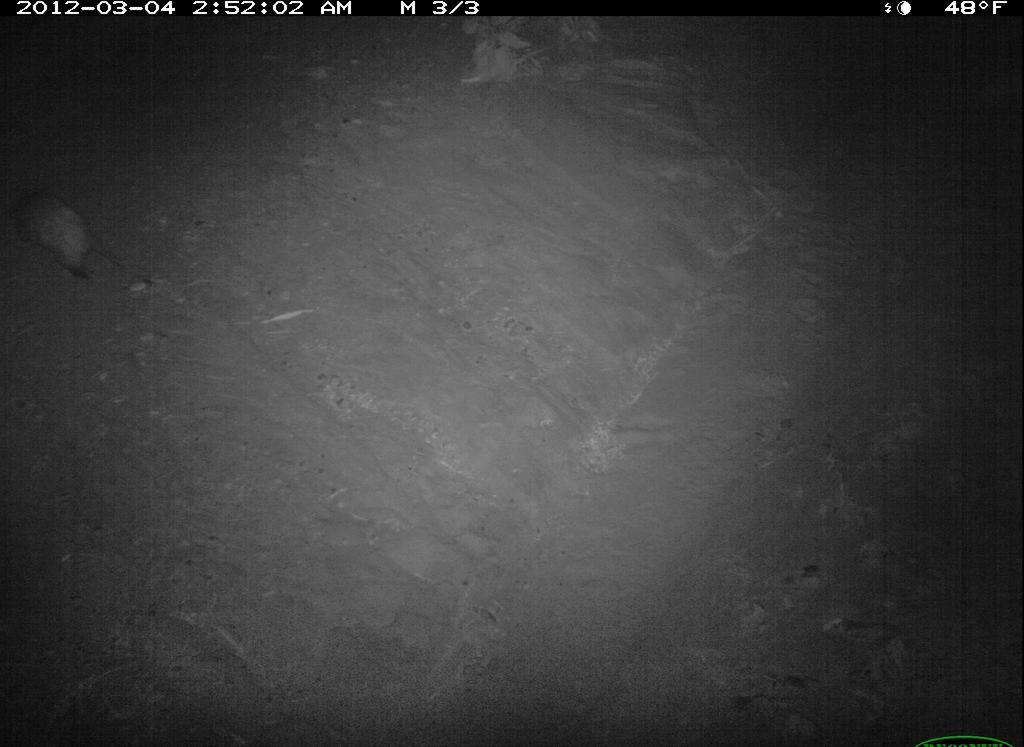opossum: (4, 172, 155, 304)
